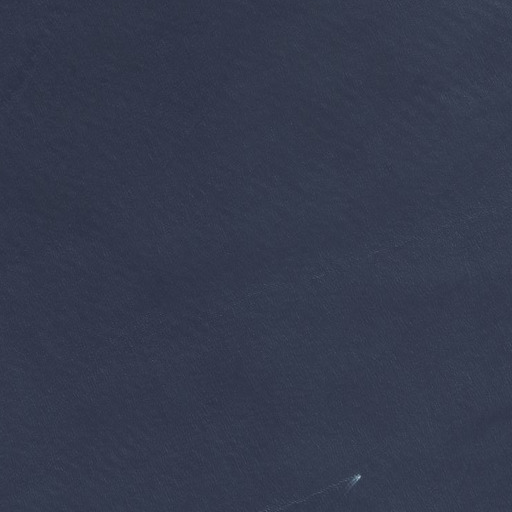ship: (352, 472, 362, 481)
